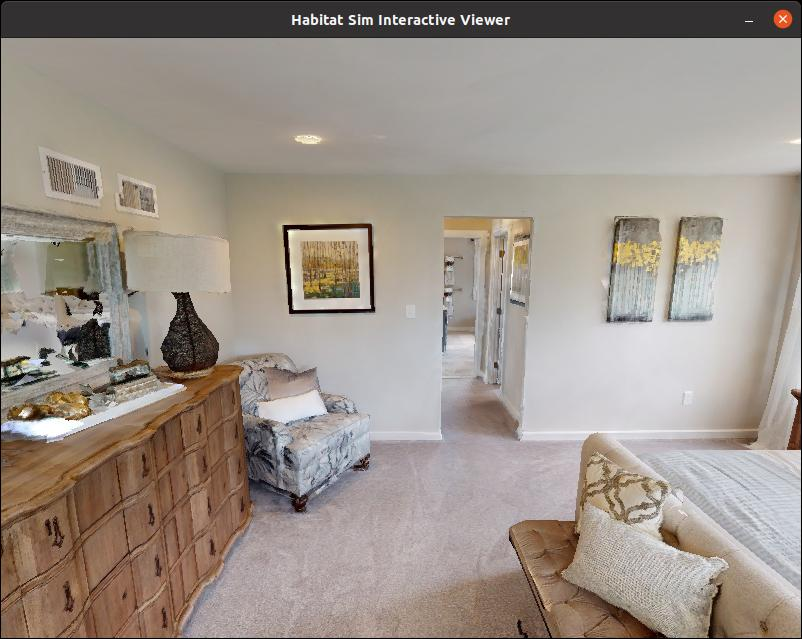door-frame: (427, 203, 540, 446)
sofa: (473, 419, 802, 639), (222, 327, 381, 510)
